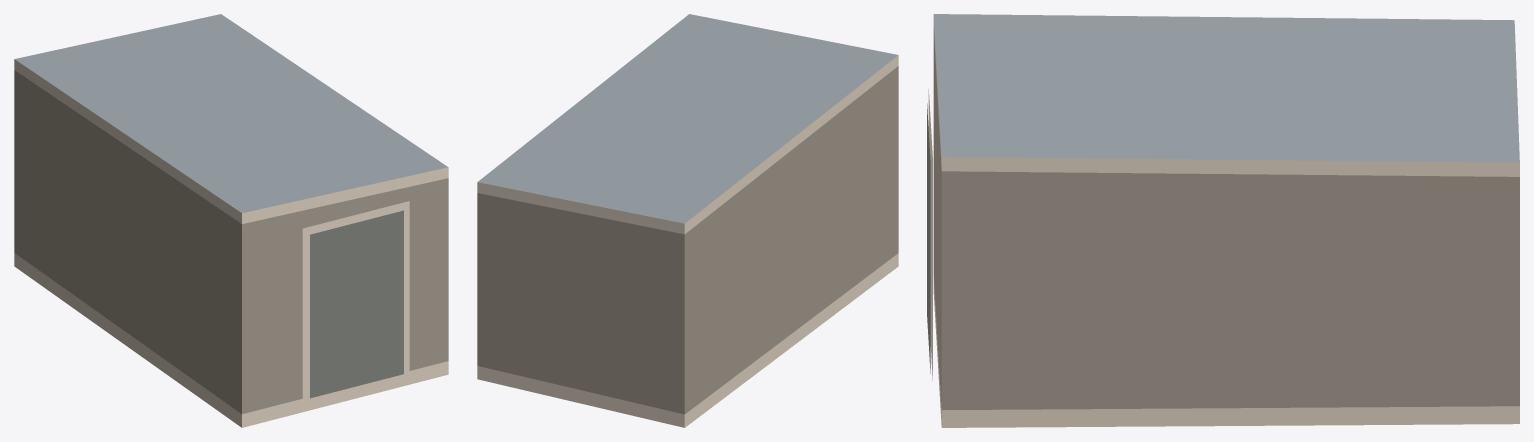
File: dc-au-media-center-east-shed.glb
3 renders of one model, left to right at view 1: azimuth 30°, elevation 25°; view 2: azimuth 150°, elevation 25°; view 3: azimuth 270°, elevation 25°, orthographic. The views are drawn at different scales.
Parts seen in each view (by area): view 1: East Shed near the Media Production Center; view 2: East Shed near the Media Production Center; view 3: East Shed near the Media Production Center.
Boxes of the visible parts, x1,y1,x2,y2 form: East Shed near the Media Production Center: (14, 14, 448, 427); East Shed near the Media Production Center: (477, 14, 898, 427); East Shed near the Media Production Center: (927, 14, 1519, 427).
Size of the model in its own units: 2.47 by 2.36 by 4.52.
